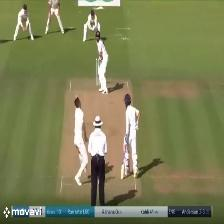batsman: (90, 30, 111, 94)
